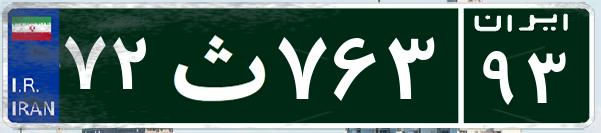2: (110, 28, 158, 105)
3: (385, 28, 445, 110), (525, 38, 570, 115)
6: (330, 28, 385, 110)
7: (273, 28, 330, 110), (57, 26, 110, 107)
9: (475, 38, 525, 113)
ث: (158, 15, 273, 115)
